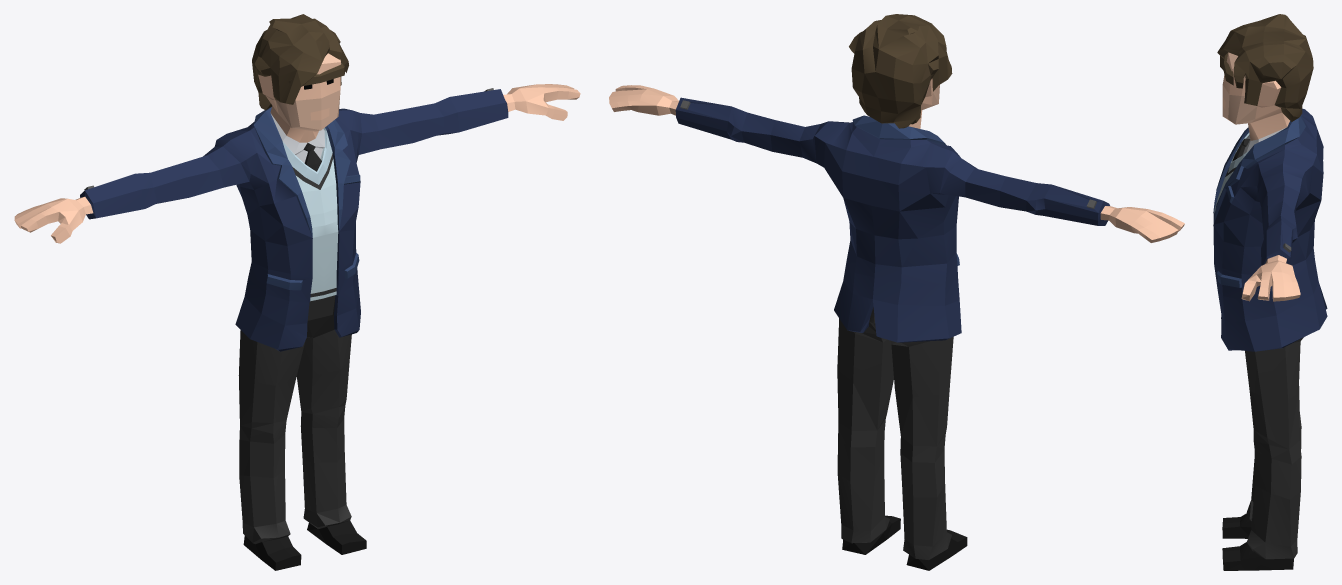
File: Character1_model.fbx
The picture shows the model from 3 angles, left to right: view 1: azimuth 30°, elevation 25°; view 2: azimuth 150°, elevation 25°; view 3: azimuth 270°, elevation 25°; orthographic projection.
Parts seen in each view (by area): view 1: Character_SchoolBoy_01; view 2: Character_SchoolBoy_01; view 3: Character_SchoolBoy_01.
Boxes of the visible parts, <box> form: Character_SchoolBoy_01: <box>14,14,580,570</box>; Character_SchoolBoy_01: <box>609,14,1184,570</box>; Character_SchoolBoy_01: <box>1213,14,1327,570</box>.
Size of the model in its own units: 205 by 184 by 36.16.
1 material, 1 textured.
